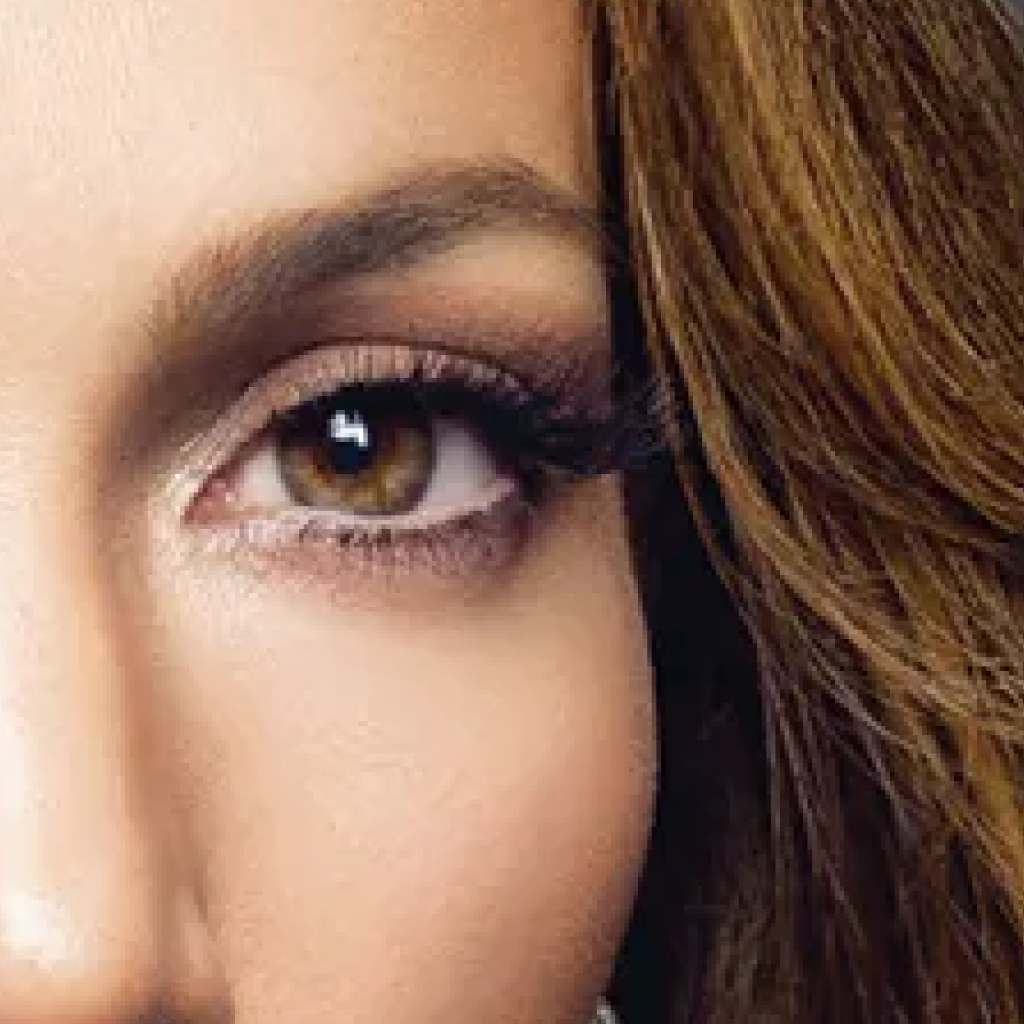iris: (278, 393, 432, 511)
pupil: (320, 397, 381, 468)
sclera: (418, 412, 495, 507), (233, 442, 285, 501)
